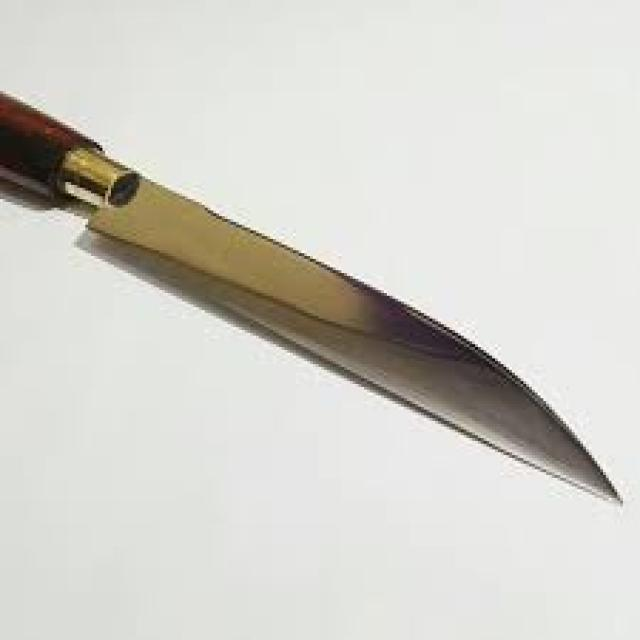Knife: (3, 91, 623, 501)
